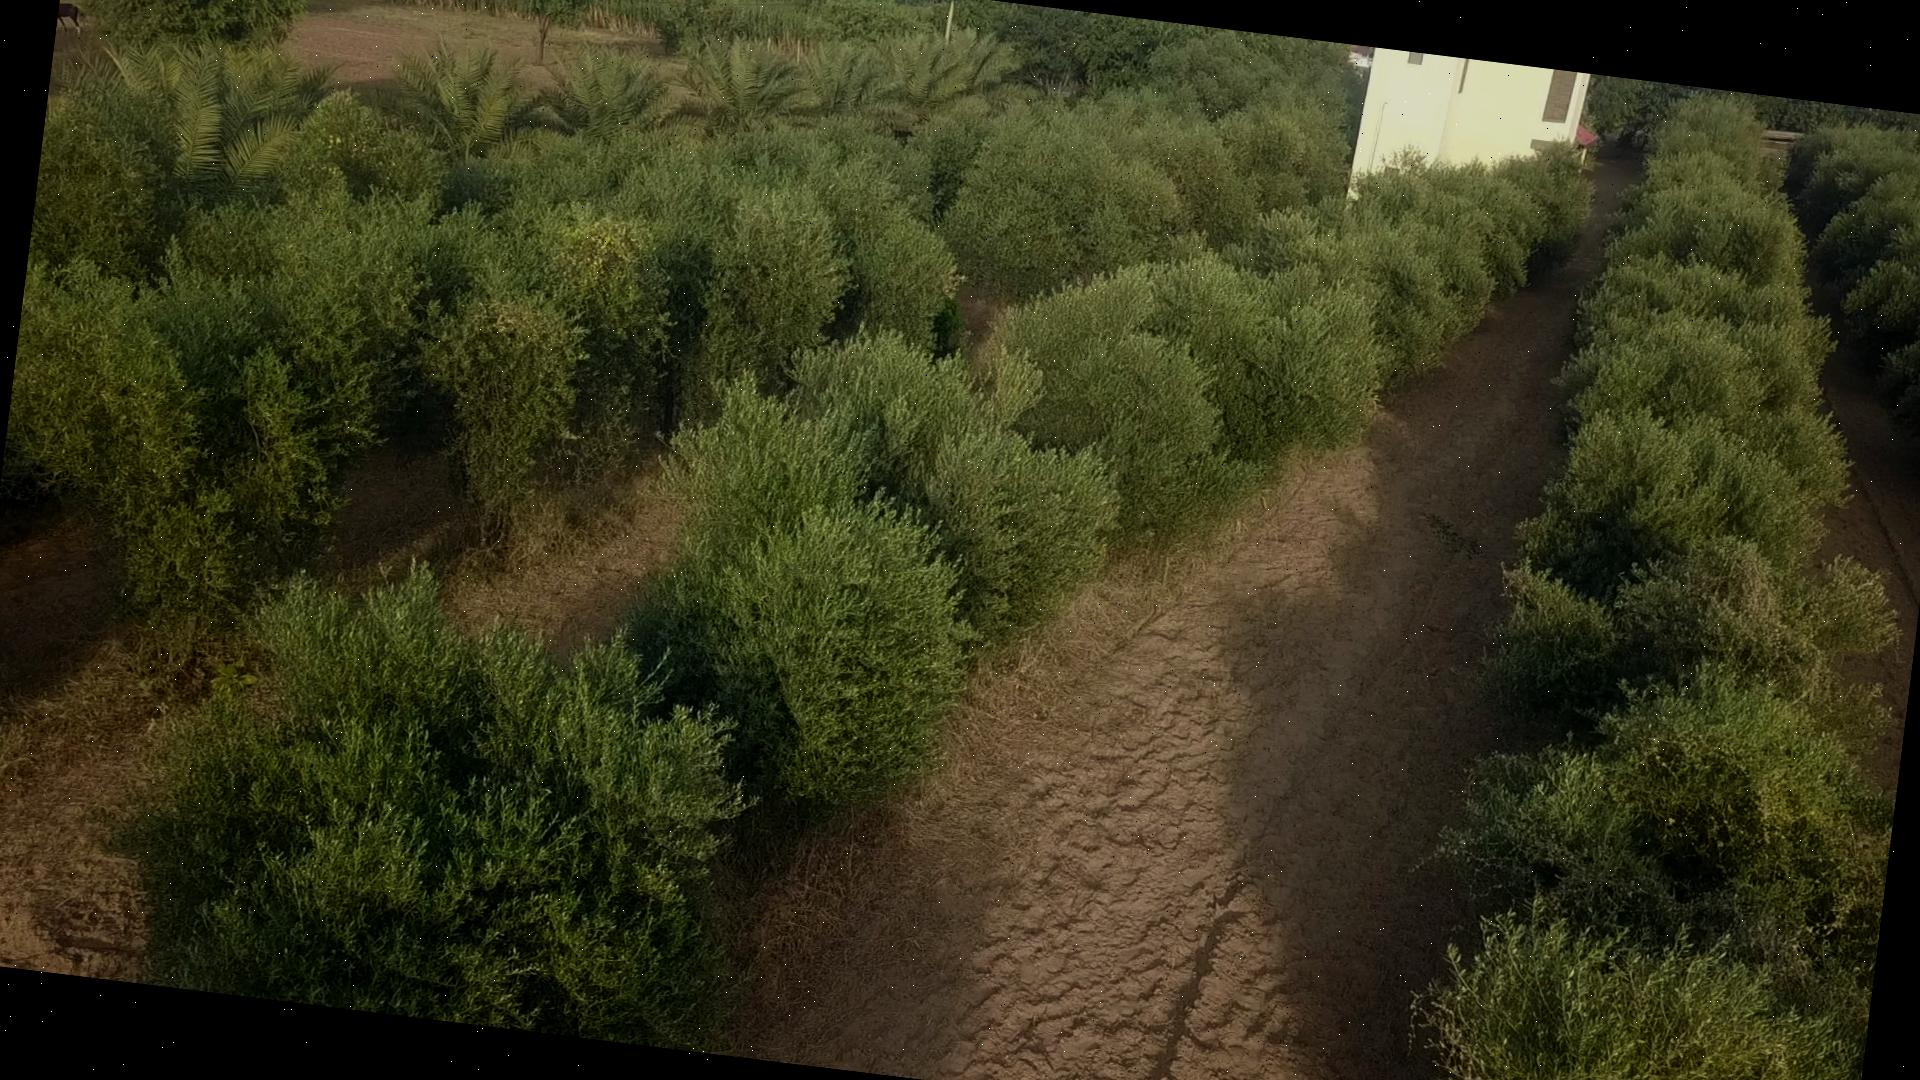canopy: (127, 145, 1590, 1044), (5, 98, 1346, 670), (1411, 95, 1896, 1080), (1785, 125, 1920, 423)
road: (712, 161, 1636, 1080), (0, 454, 682, 978), (1820, 356, 1920, 713)
